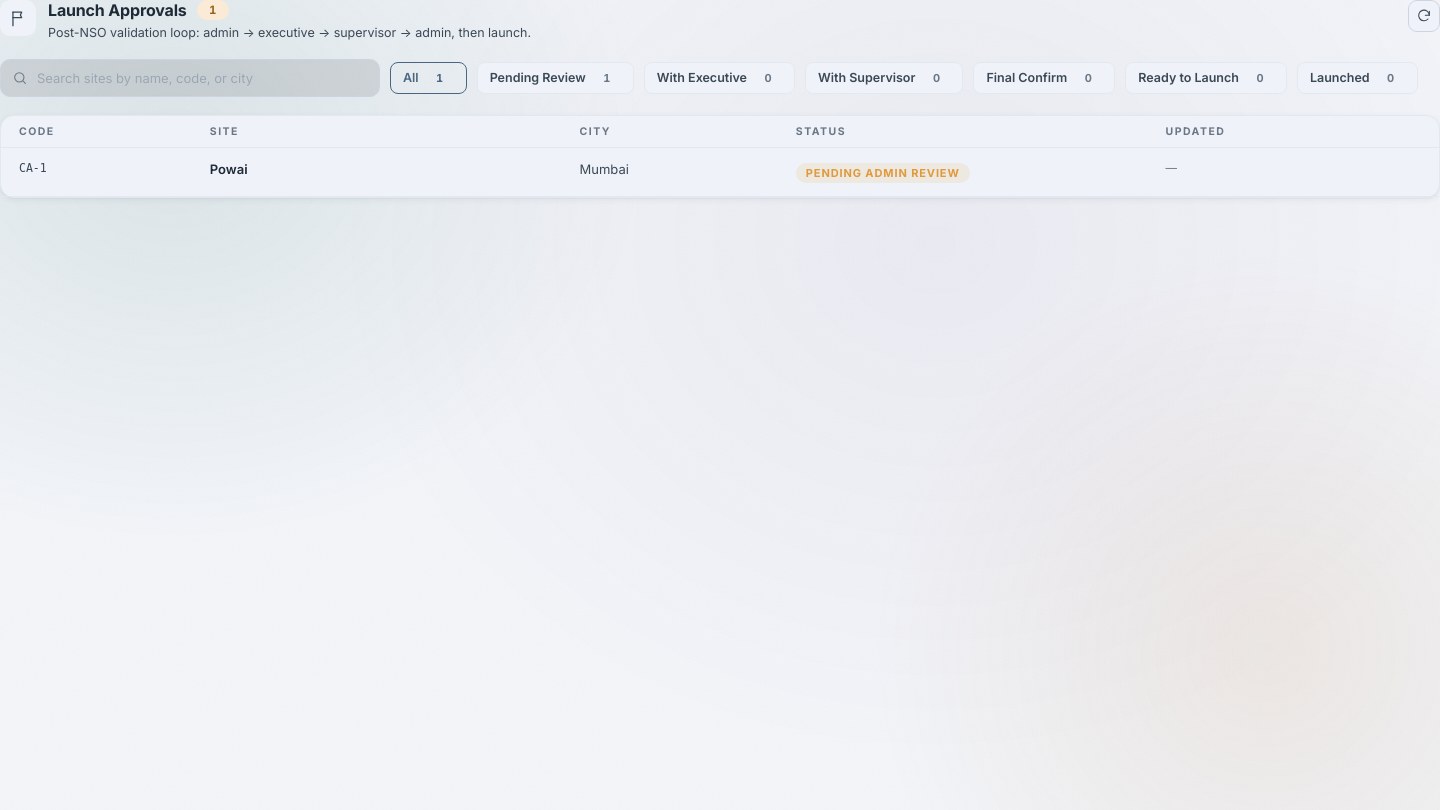
Test case: LaunchApprovalTab — commercial terms › flags a missing rent start date in the Current grid
What coordinates should you click on to do the following:
click the text "Powai"
I would click on:
 (229, 169)
Its box is [210, 161, 248, 177].
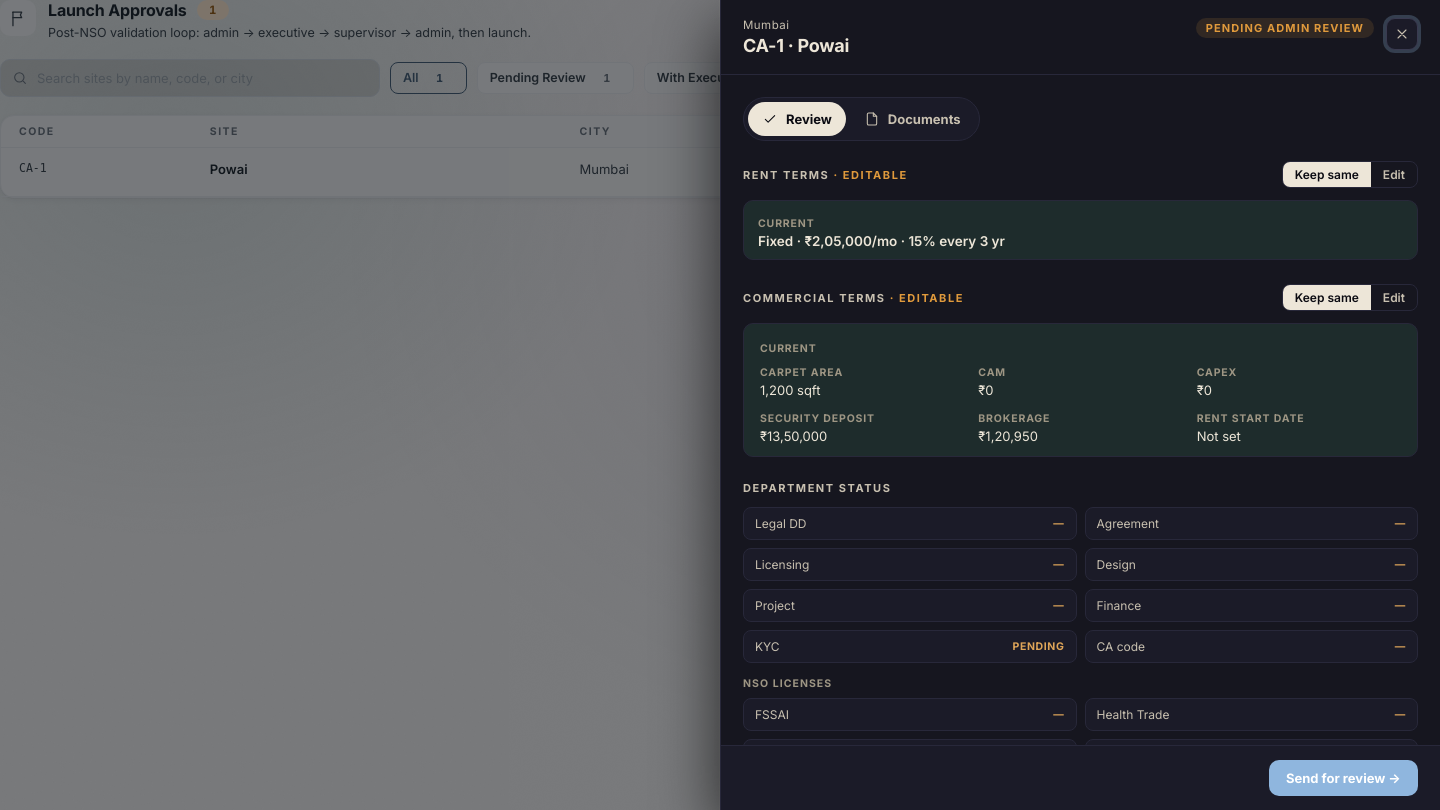
Expected: the text "Not set" is shown, [1197, 428, 1241, 444]
